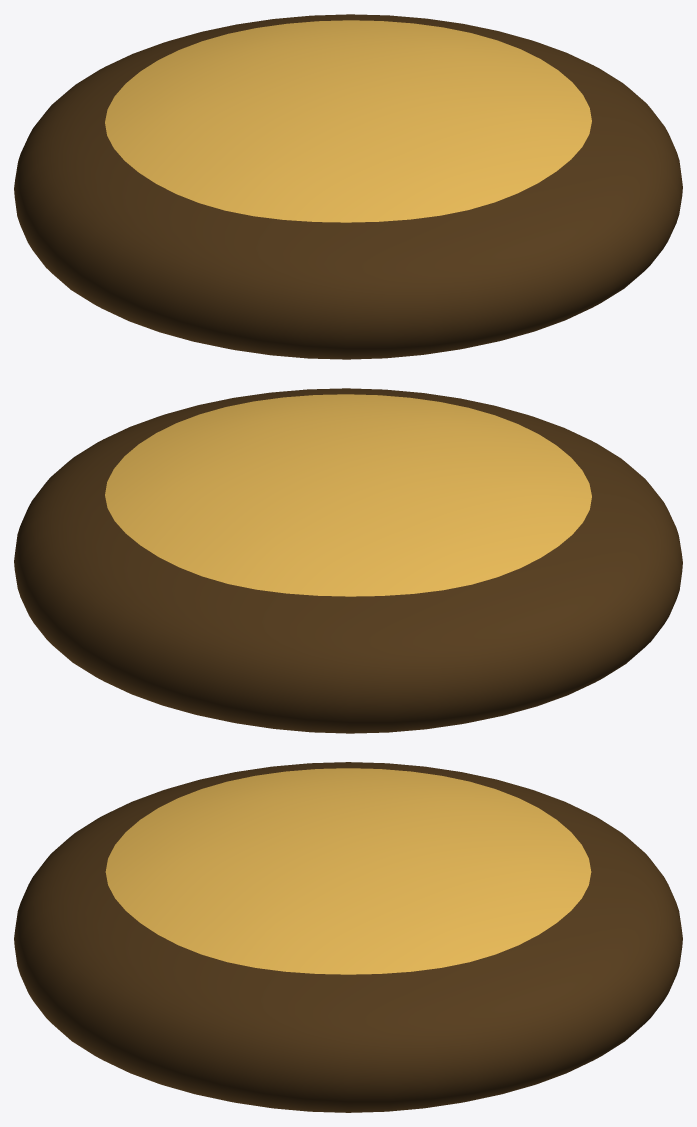
The model's file is CirclePea.glb.
The picture shows the model from 3 angles, top to bottom: view 1: azimuth 30°, elevation 25°; view 2: azimuth 150°, elevation 25°; view 3: azimuth 270°, elevation 25°; orthographic projection.
Visible parts, largest first — view 1: Cube; view 2: Cube; view 3: Cube.
Part boxes in pixels (bbox=[...]): Cube: bbox=[14, 14, 682, 359]; Cube: bbox=[14, 388, 682, 733]; Cube: bbox=[14, 762, 682, 1112].
Size of the model in its own units: 0.8211 by 0.2221 by 0.808.
